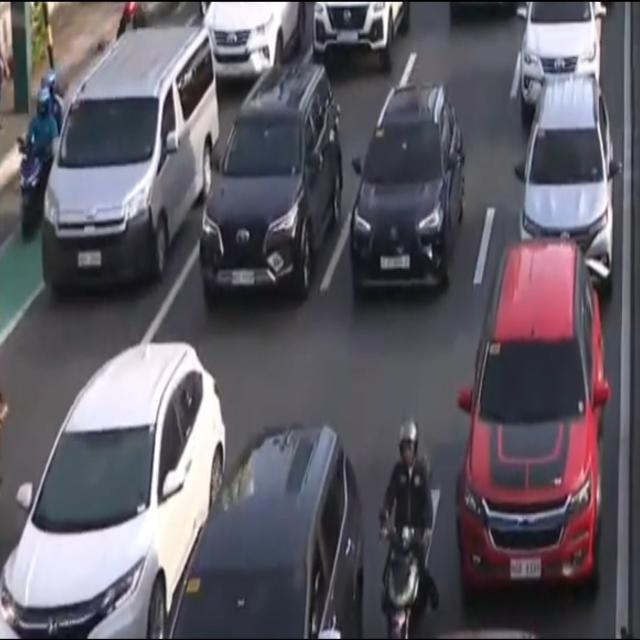Motorcycle: (376, 420, 434, 640), (12, 71, 60, 246)
SUV: (7, 355, 228, 640), (460, 249, 606, 604), (145, 434, 363, 640), (353, 89, 466, 292), (518, 83, 616, 270)
Van: (38, 24, 220, 302), (189, 68, 339, 312)
